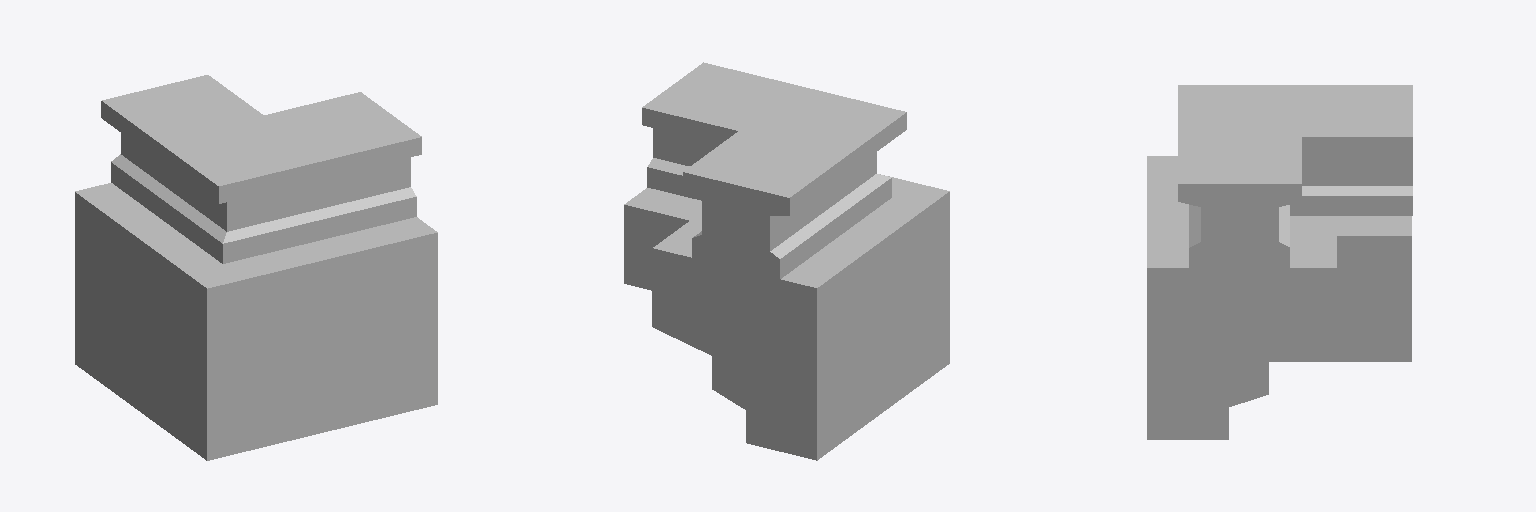
File: CornerRoofInverse.obj
3 views of the same model, side by side, from view 1: azimuth 30°, elevation 25°; view 2: azimuth 150°, elevation 25°; view 3: azimuth 270°, elevation 25° (orthographic).
Parts seen in each view (by area): view 1: unknown_selection; view 2: unknown_selection; view 3: unknown_selection.
Part boxes in pixels (bbox=[...]): unknown_selection: bbox=[75, 75, 437, 460]; unknown_selection: bbox=[624, 62, 949, 460]; unknown_selection: bbox=[1147, 85, 1412, 439].
Size of the model in its own units: 0.7001 by 0.7435 by 0.7001.